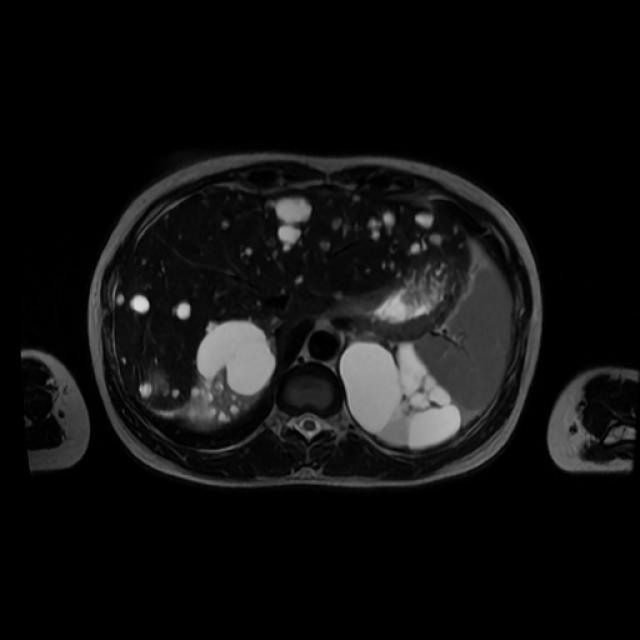sag: (192, 319, 277, 426)
sol: (342, 341, 462, 448)
